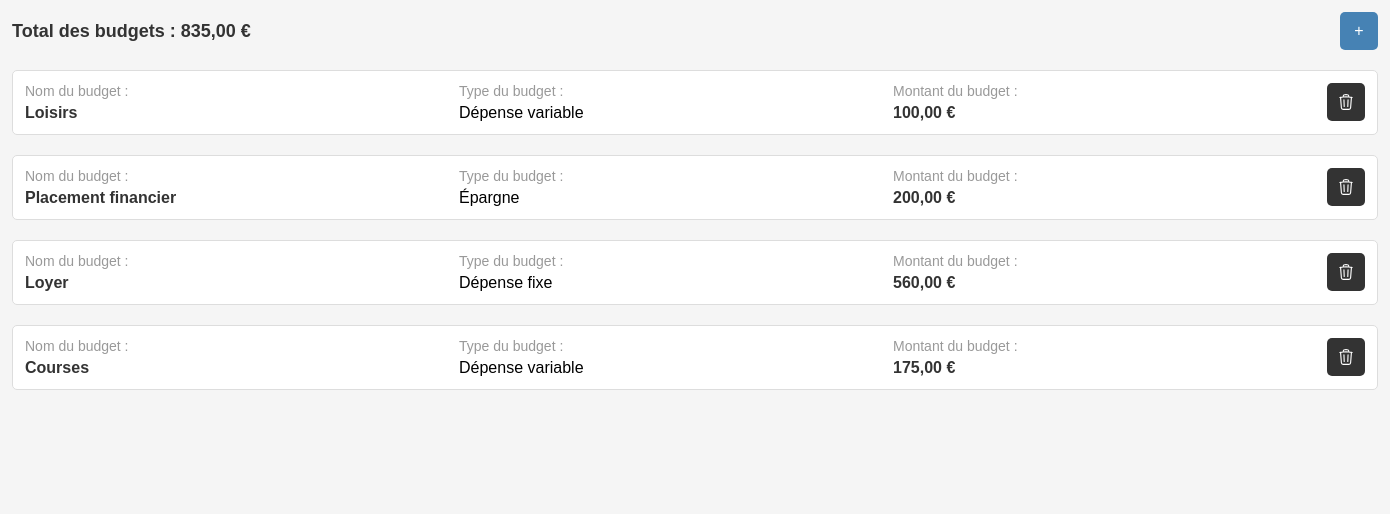
<BudgetsManagement /> › should open and close budget form
expect the text "Nom :" is not shown: met
Click the button "+" at (1359, 31), box [1340,12,1378,50]
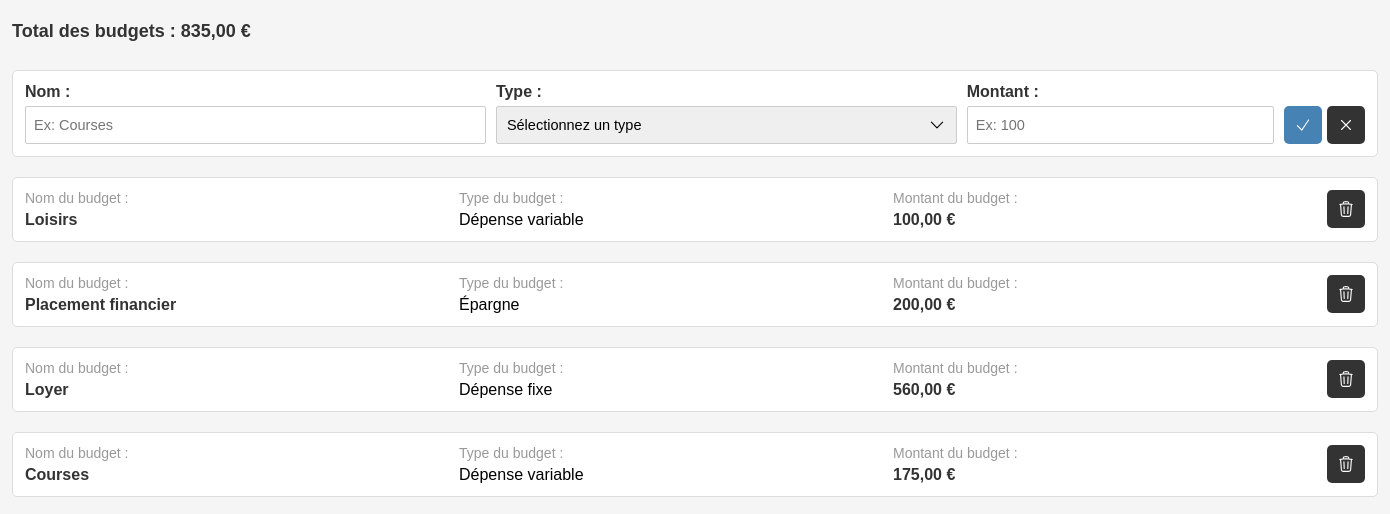
expect the text "Nom :" is shown: met, box [25,83,70,100]
Click the 2nd button at (1346, 125), box [1327,106,1365,144]
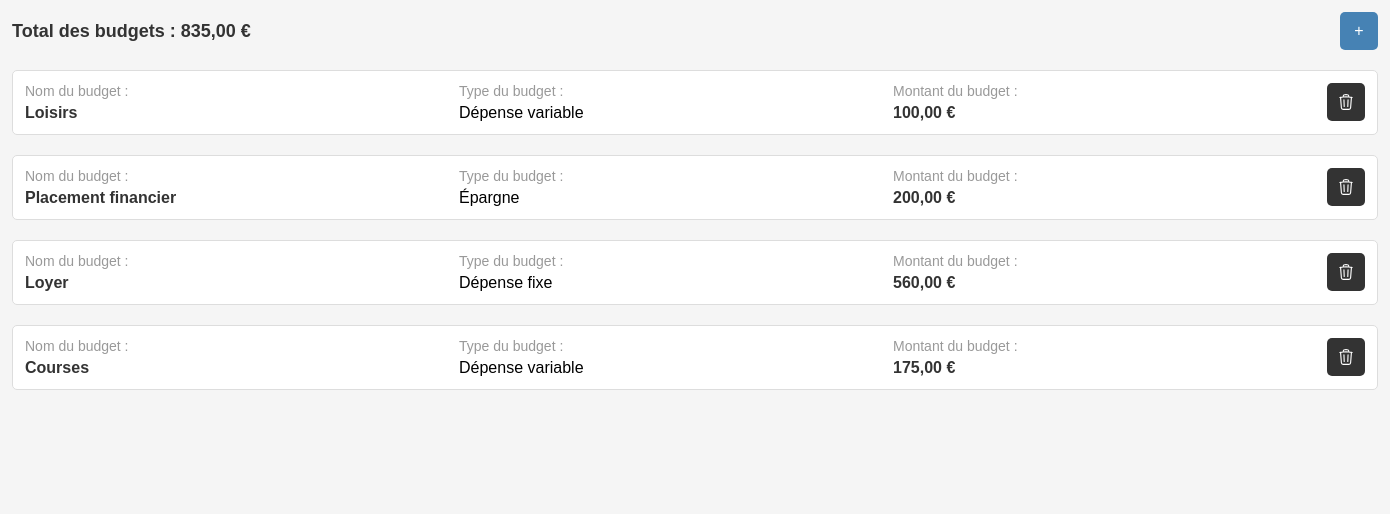
expect the text "Nom :" is gone: met
